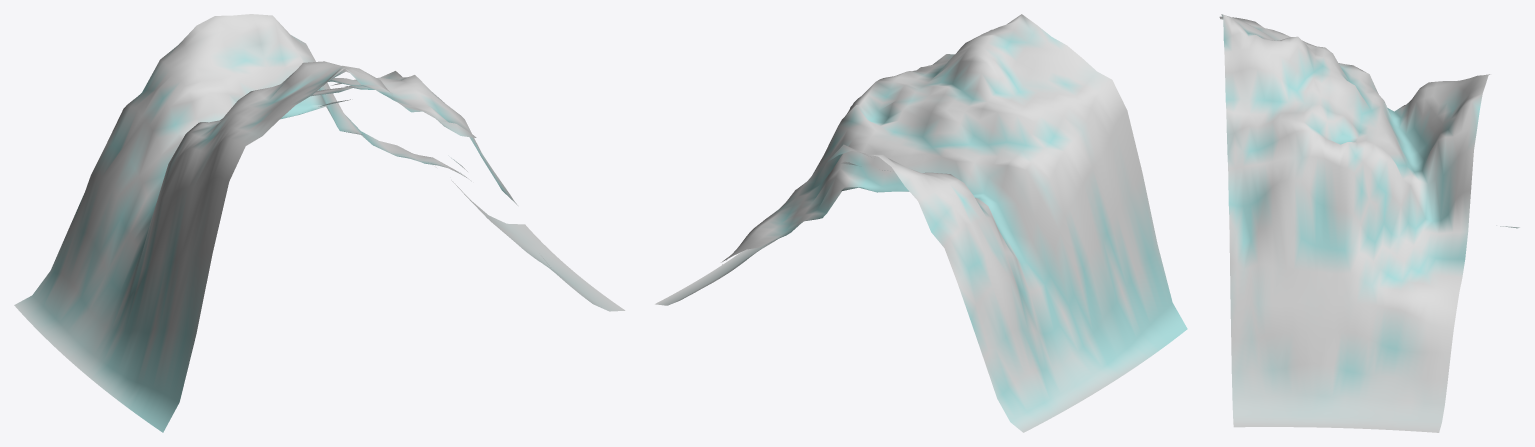
The model's file is middle_2.glb.
3 renders of one model, left to right at view 1: azimuth 30°, elevation 25°; view 2: azimuth 150°, elevation 25°; view 3: azimuth 270°, elevation 25°, orthographic. The views are drawn at different scales.
Parts seen in each view (by area): view 1: Mountain; view 2: Mountain; view 3: Mountain.
Boxes of the visible parts, bbox=[...] form: Mountain: bbox=[14, 14, 625, 432]; Mountain: bbox=[655, 14, 1187, 432]; Mountain: bbox=[1219, 14, 1519, 432].
Bounding box in the file's own units: 617 × 384 × 370.
